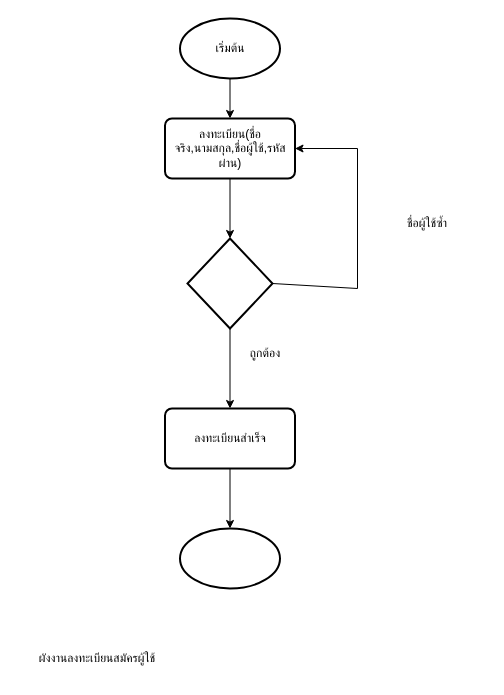
Image size: 504x695. Some labels were removed from this diagram. The shapes that lost their labels are listed below. From the top down, each one's centre as x and y in pixels, then its label:
At [229,283]: "ตรวจสอบ".
At [229,558]: "สิ้นสุด".
